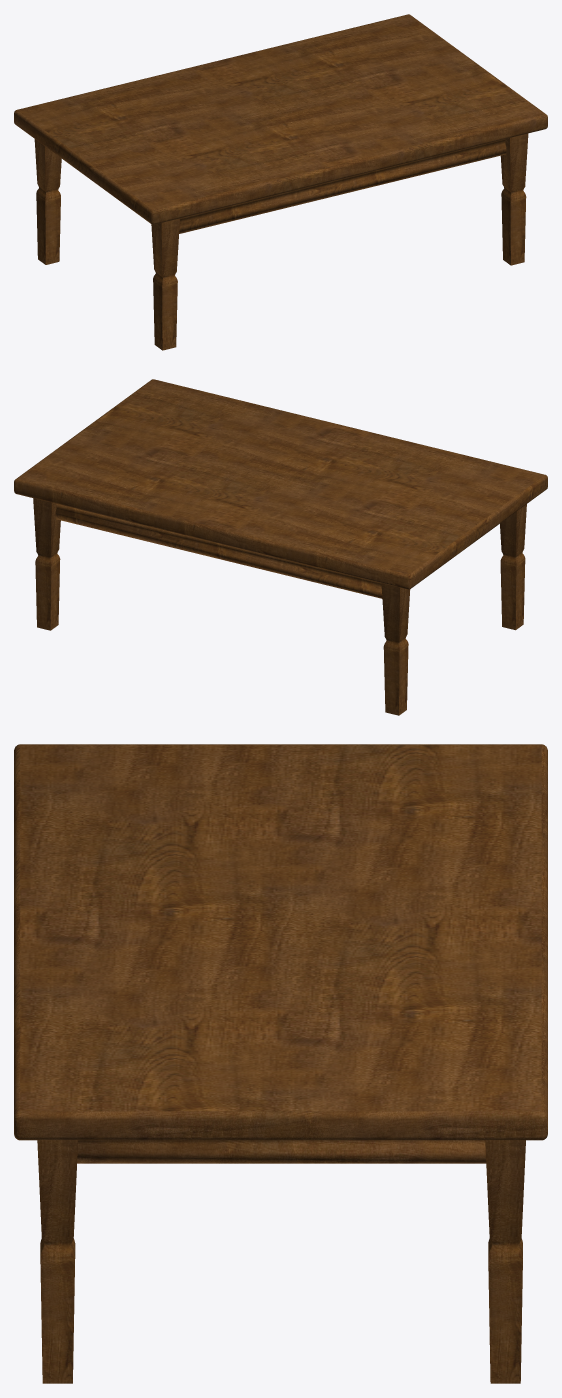
File: table01.obj
3 renders of one model, top to bottom at view 1: azimuth 30°, elevation 25°; view 2: azimuth 150°, elevation 25°; view 3: azimuth 270°, elevation 25°, orthographic. The views are drawn at different scales.
Parts seen in each view (by area): view 1: meh; view 2: meh; view 3: meh.
Part boxes in pixels (<box>): meh: <box>14,14,547,350</box>; meh: <box>14,379,547,715</box>; meh: <box>14,744,547,1383</box>.
Bounding box in the file's own units: 107 × 38.24 × 64.81.
Materials: 1 (1 with a texture image).
